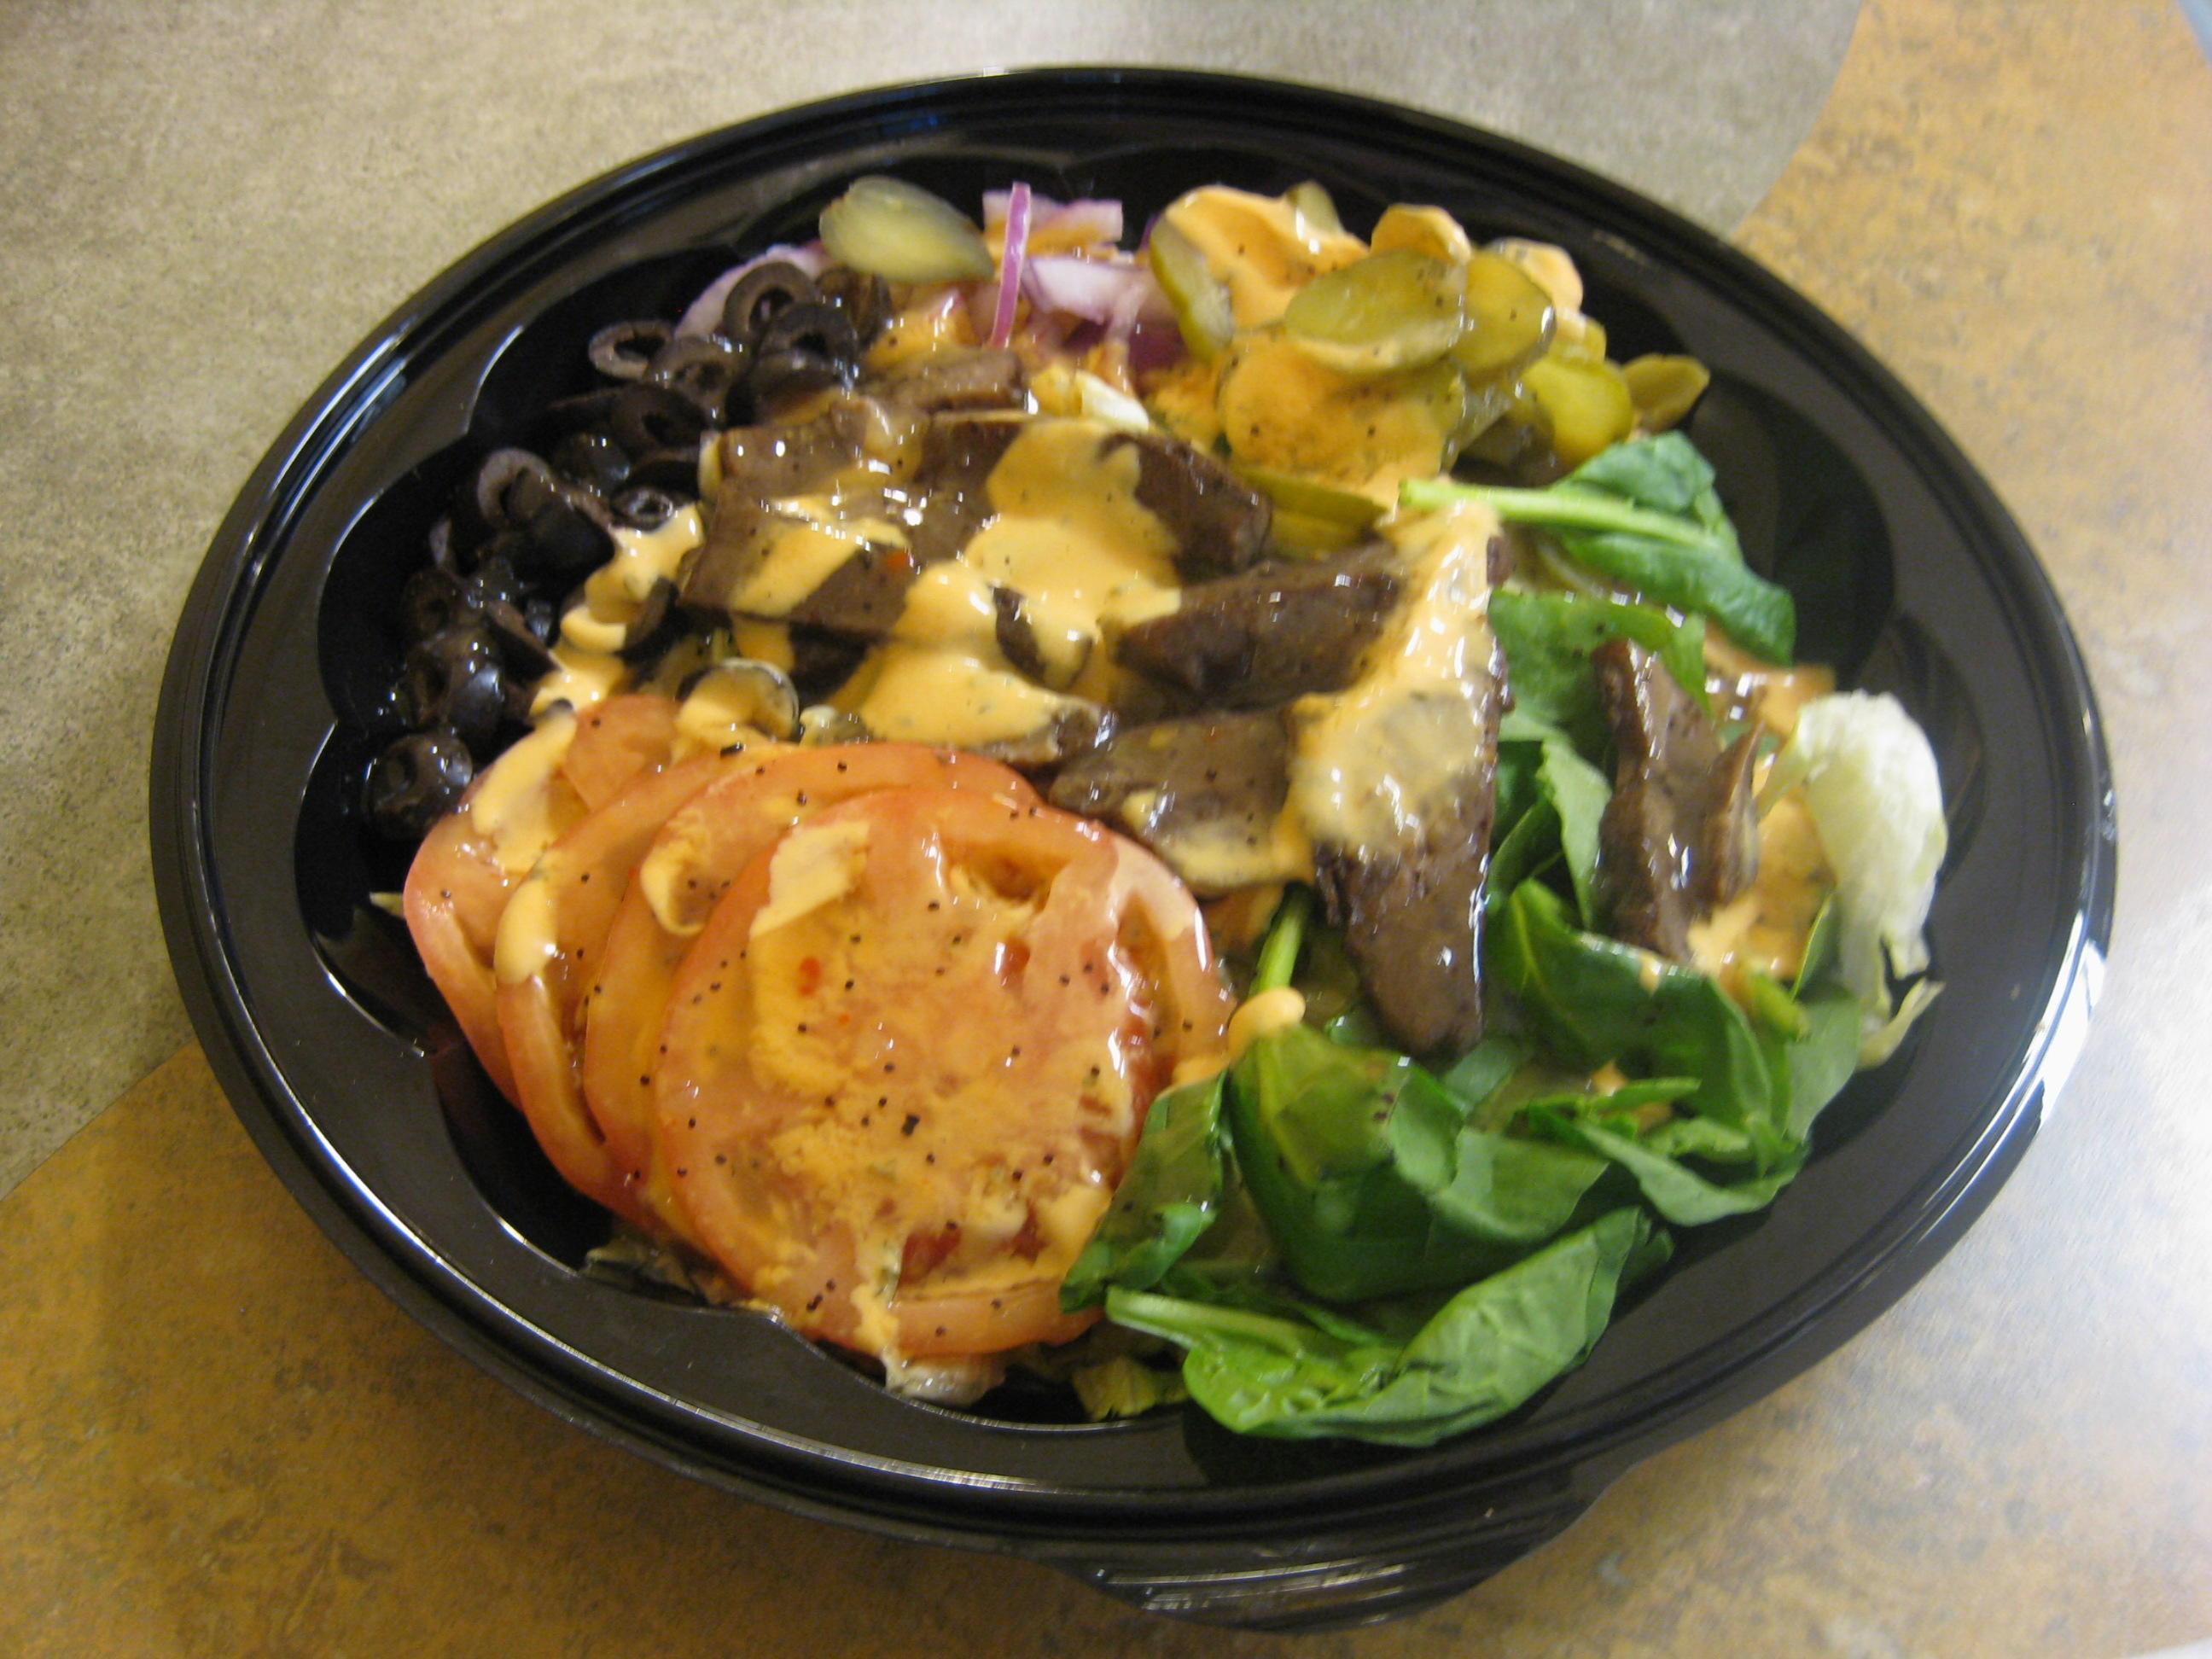salad: (300, 154, 1946, 1458)
